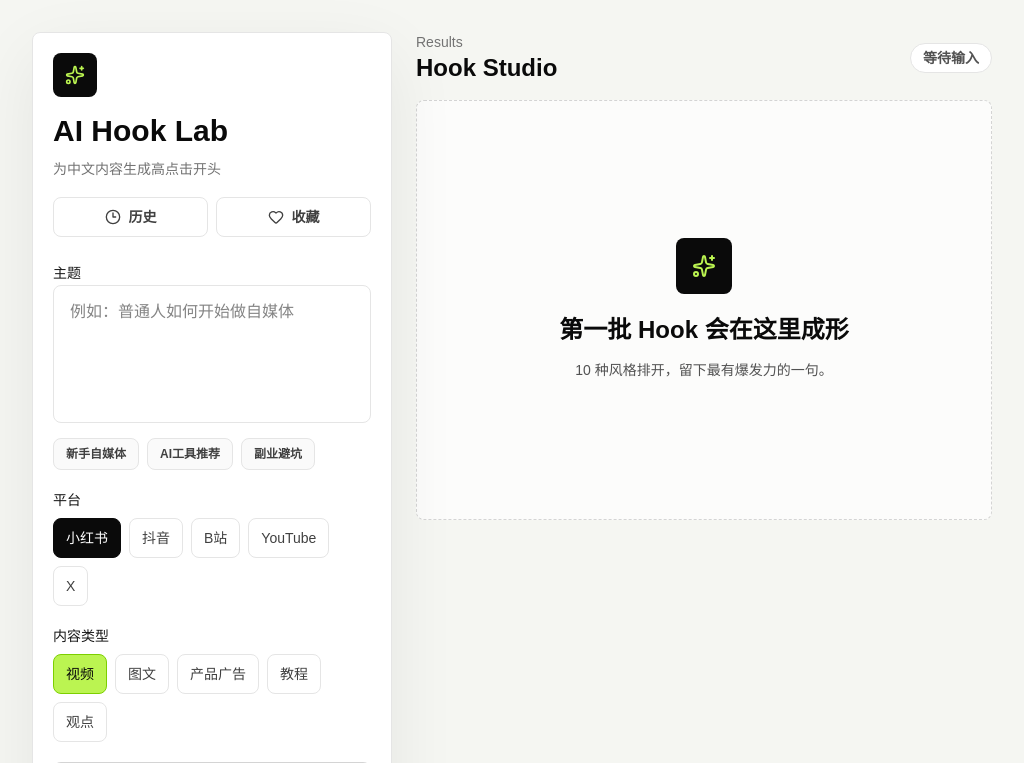
Test: AiHookLabApp › can open history and restore a previous generation
Step 1. Click the button "历史" → {"x": 130, "y": 217}, box [53,197,208,237]
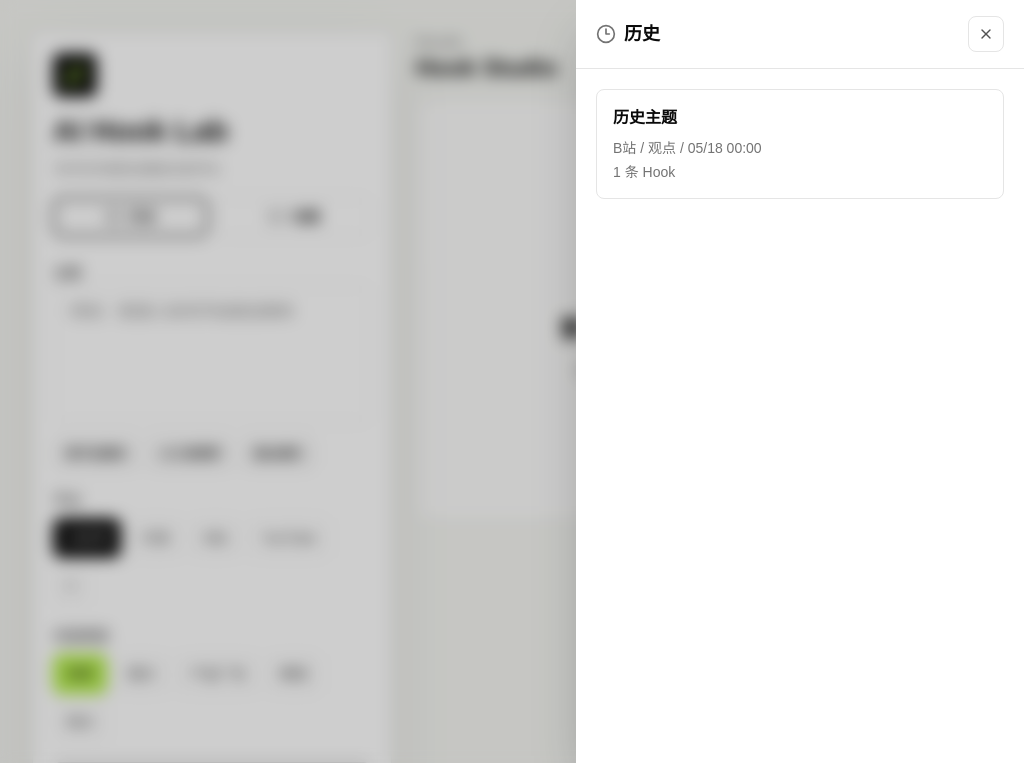
Step 2. Click the button with aria-label "恢复 历史主题" → {"x": 645, "y": 118}, box [596,89,1004,199]
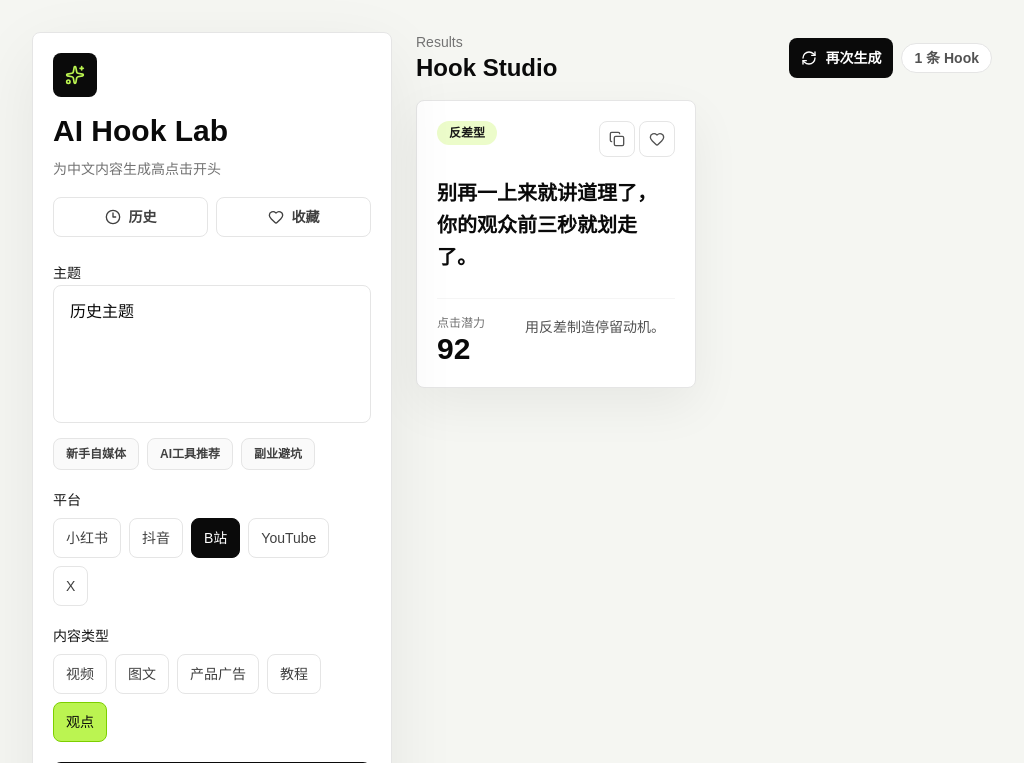
Expected: the text "别再一上来就讲道理了，你的观众前三秒就划走了。" is shown, [437,177,675,273]
